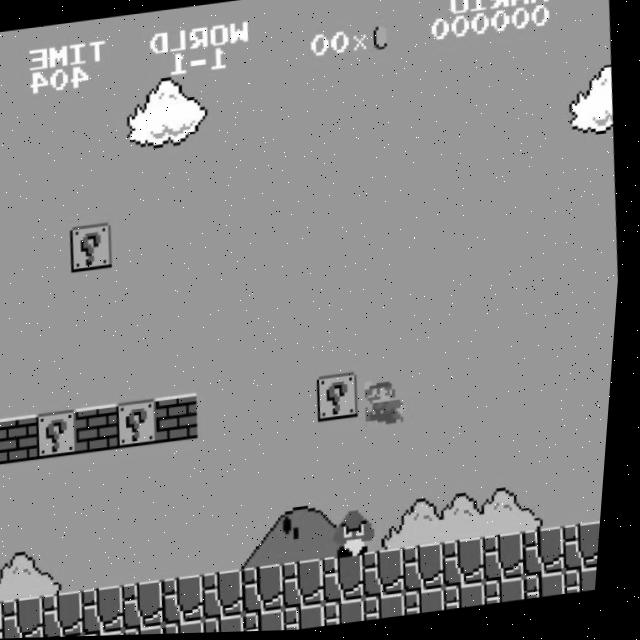1- brick_block: (78, 403, 127, 455), (158, 394, 207, 445), (0, 414, 47, 465)
11- little_mario: (366, 376, 418, 429)
13- mystery_block: (319, 373, 368, 424), (119, 399, 168, 450), (39, 409, 88, 460), (71, 222, 118, 272)
17- undestructible_block: (327, 554, 376, 606), (527, 529, 576, 580), (487, 534, 536, 585), (447, 539, 496, 590), (407, 544, 456, 595), (367, 550, 416, 601), (287, 560, 336, 611), (247, 565, 296, 616), (207, 570, 256, 621), (167, 575, 216, 626), (127, 580, 176, 631), (87, 585, 136, 636), (47, 590, 95, 638), (567, 524, 609, 575), (7, 595, 55, 639), (531, 574, 576, 602), (451, 585, 496, 613), (371, 595, 416, 623), (331, 600, 376, 628), (491, 579, 535, 607), (411, 590, 455, 618), (291, 604, 335, 632), (251, 610, 295, 633), (570, 569, 606, 597), (211, 615, 255, 634), (172, 620, 216, 635), (0, 600, 16, 639), (132, 625, 175, 636), (92, 630, 135, 637)
8- goomba: (338, 507, 389, 561)
